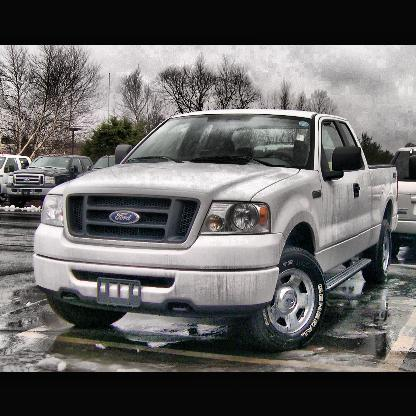Ford F-150 Regular Cab 2007: (34, 109, 398, 344)
